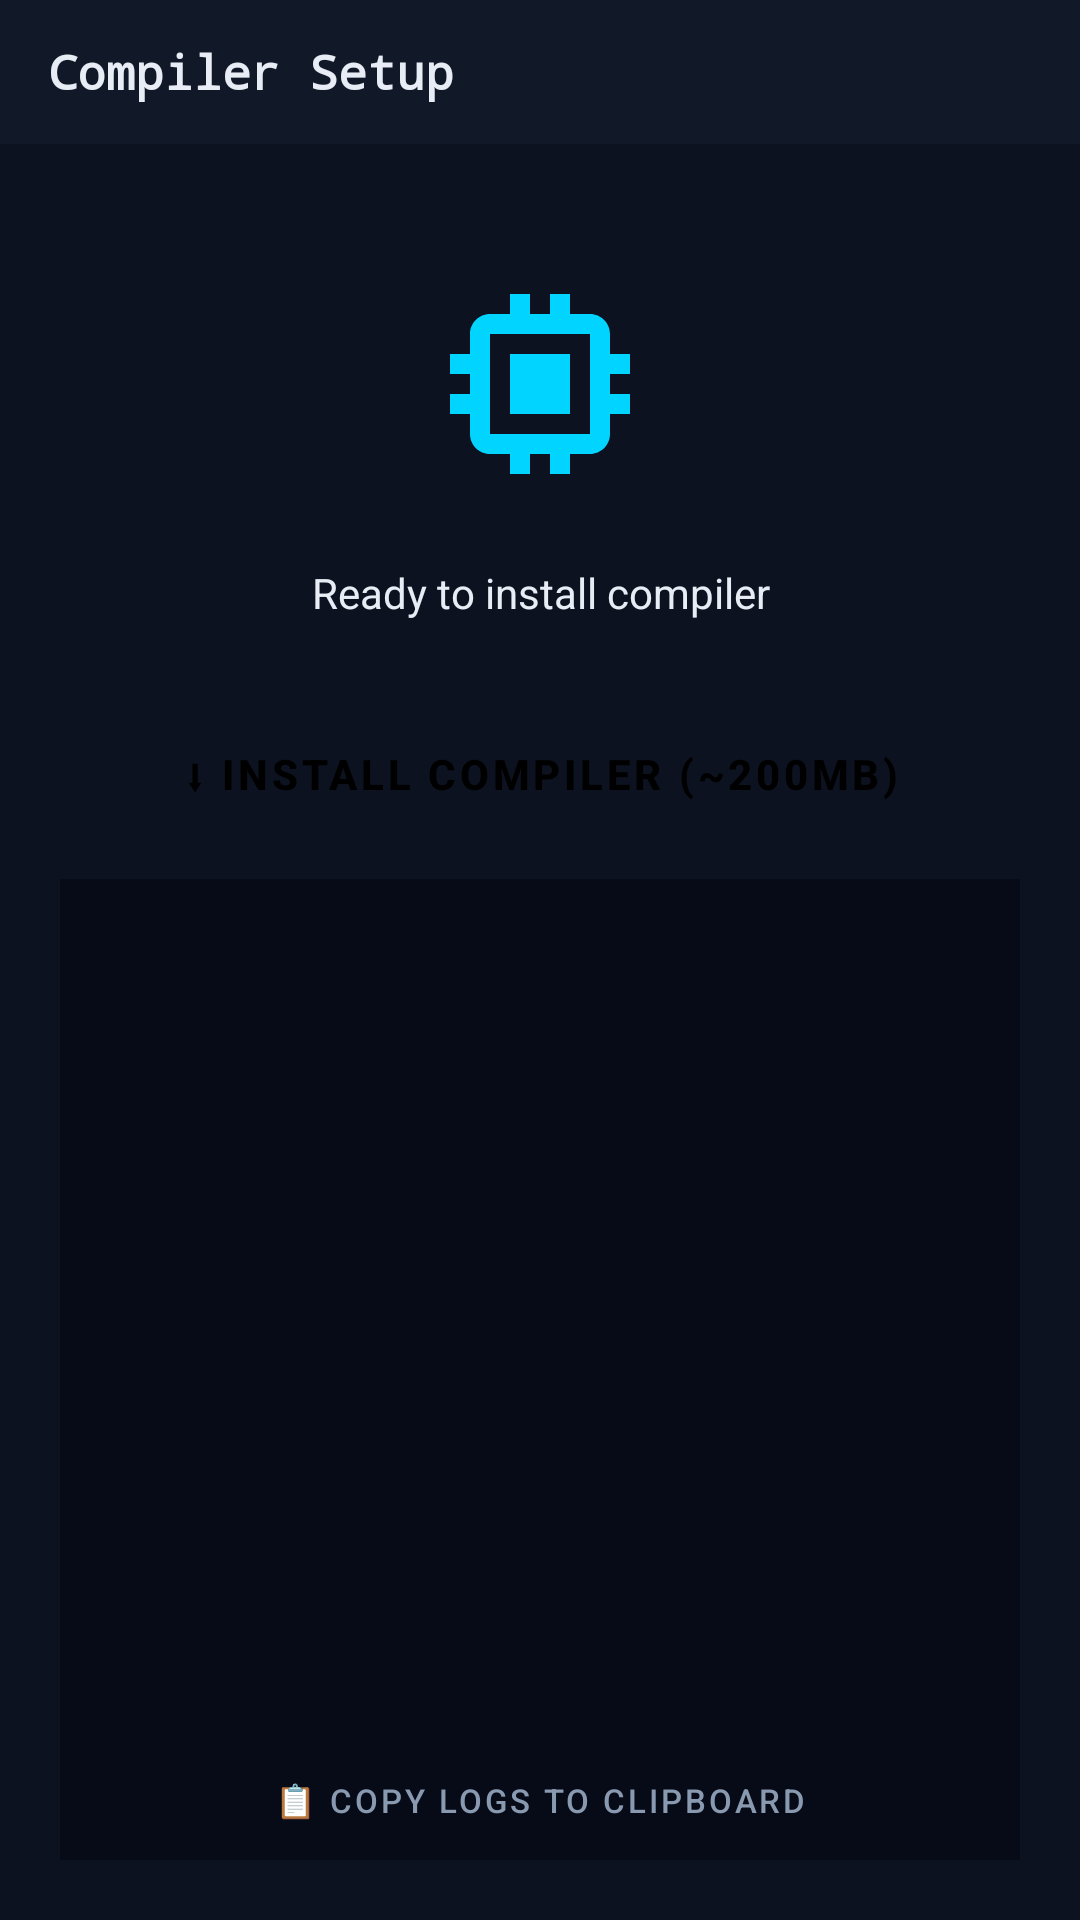

Where icons sit on this 1080*1920 app screen, as (x1, y1, x2, y2):
ESP32: (450, 294, 630, 474)
